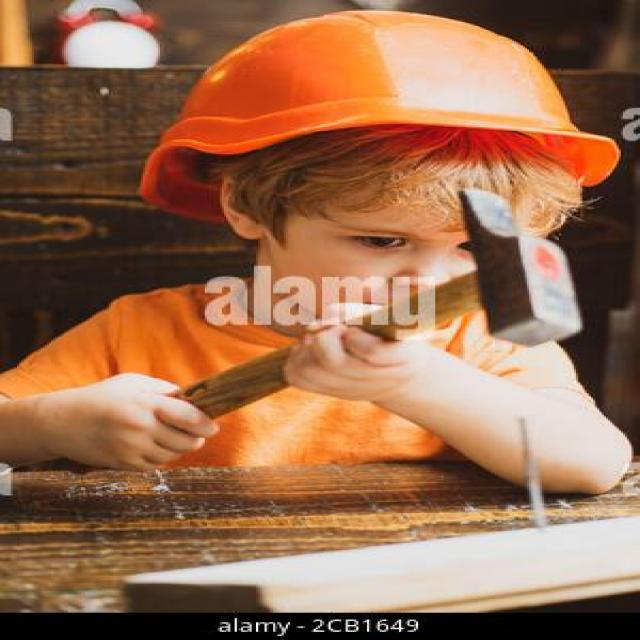hammer: (130, 188, 583, 434)
